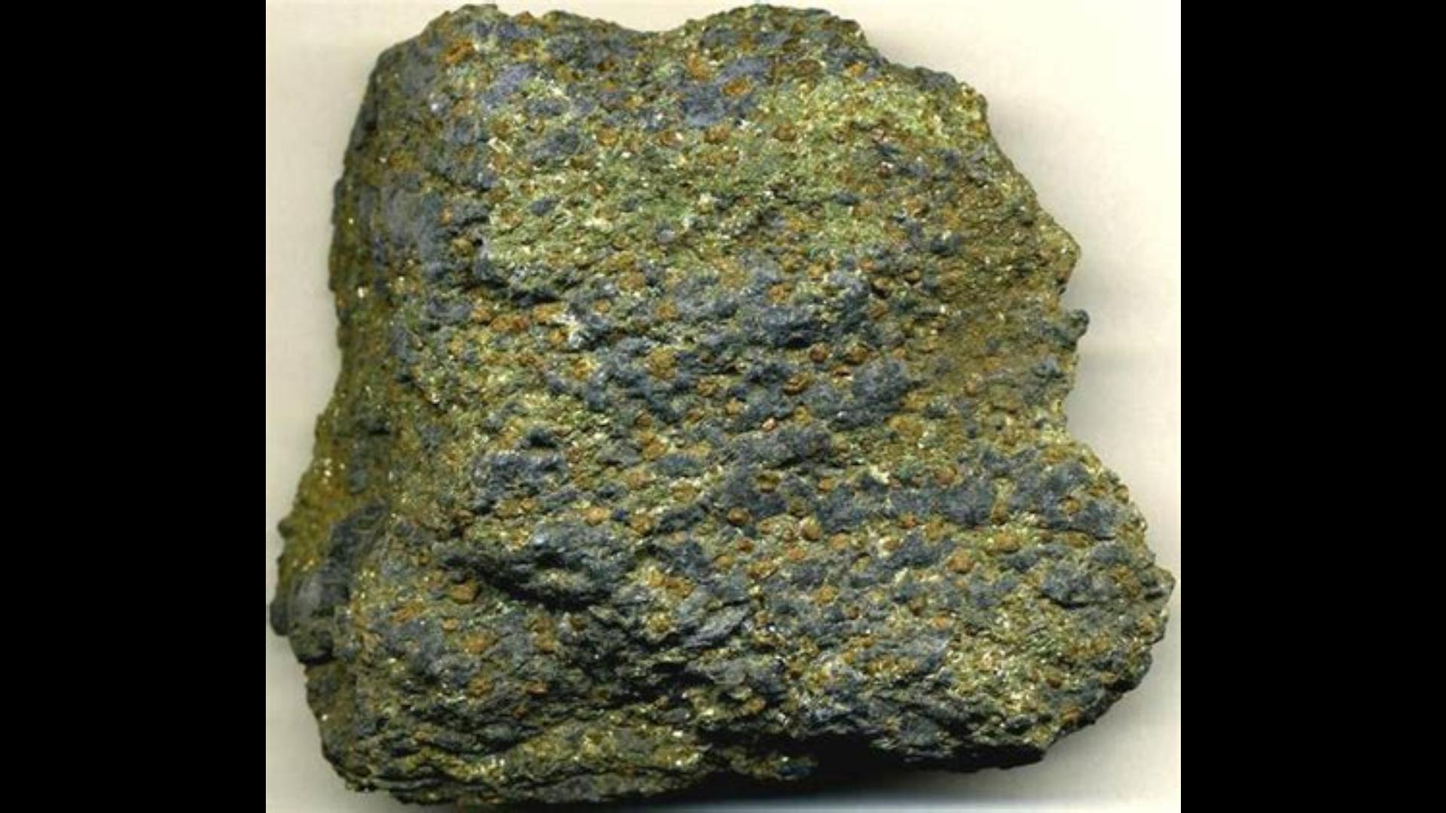rock: (273, 8, 1171, 799)
